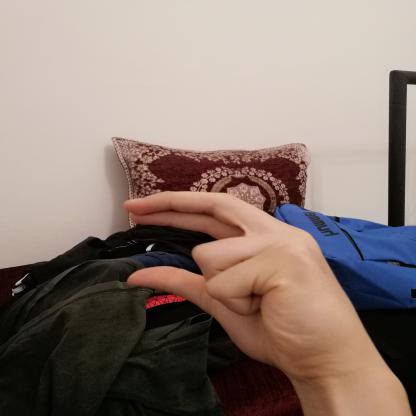DHELL: (108, 179, 378, 380)
